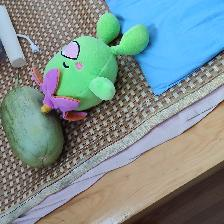gua: (6, 90, 57, 164)
